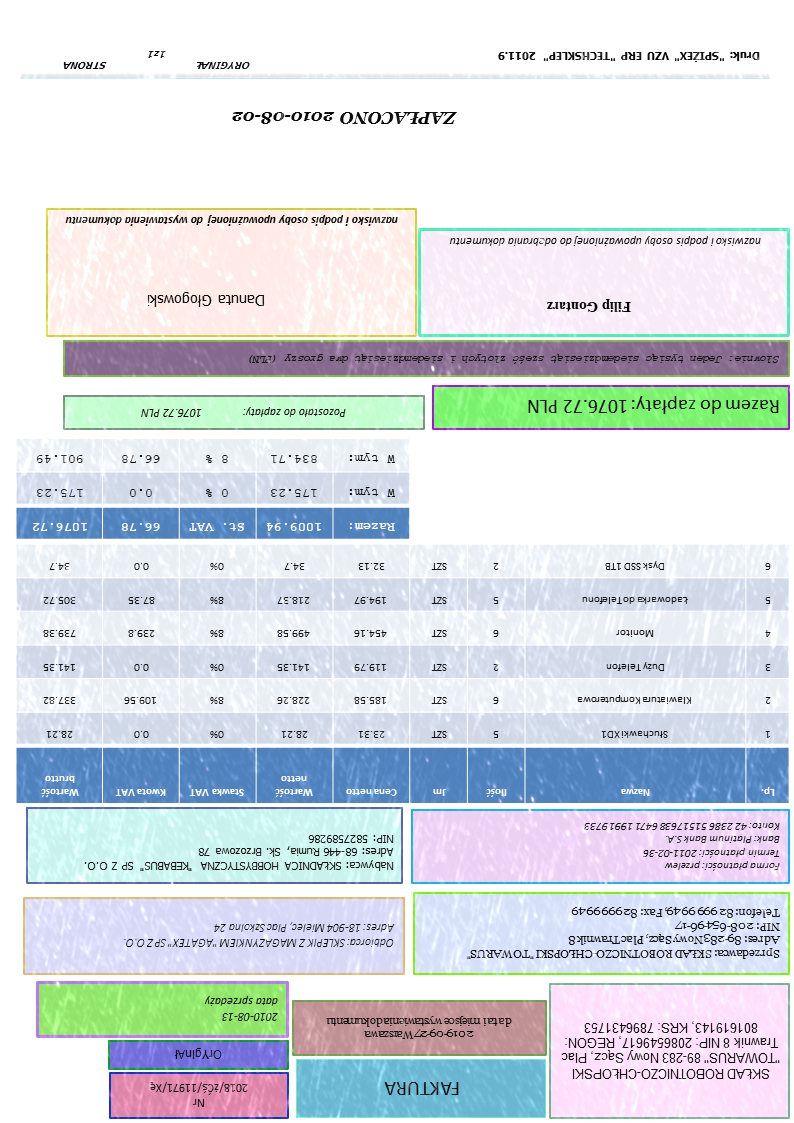Table: (17, 543, 791, 805), (14, 438, 411, 540)
TextBox: (465, 904, 784, 963), (559, 1020, 783, 1082), (80, 832, 397, 874), (582, 818, 783, 874), (121, 920, 397, 950), (248, 352, 782, 367), (526, 395, 781, 418), (322, 1014, 515, 1042), (64, 214, 401, 230), (229, 107, 462, 128), (448, 234, 764, 249), (60, 48, 252, 72), (495, 48, 762, 64), (138, 405, 348, 421), (147, 1079, 251, 1109), (202, 994, 281, 1025), (146, 289, 267, 309), (383, 1077, 463, 1099), (545, 298, 634, 316), (173, 1046, 225, 1064)
